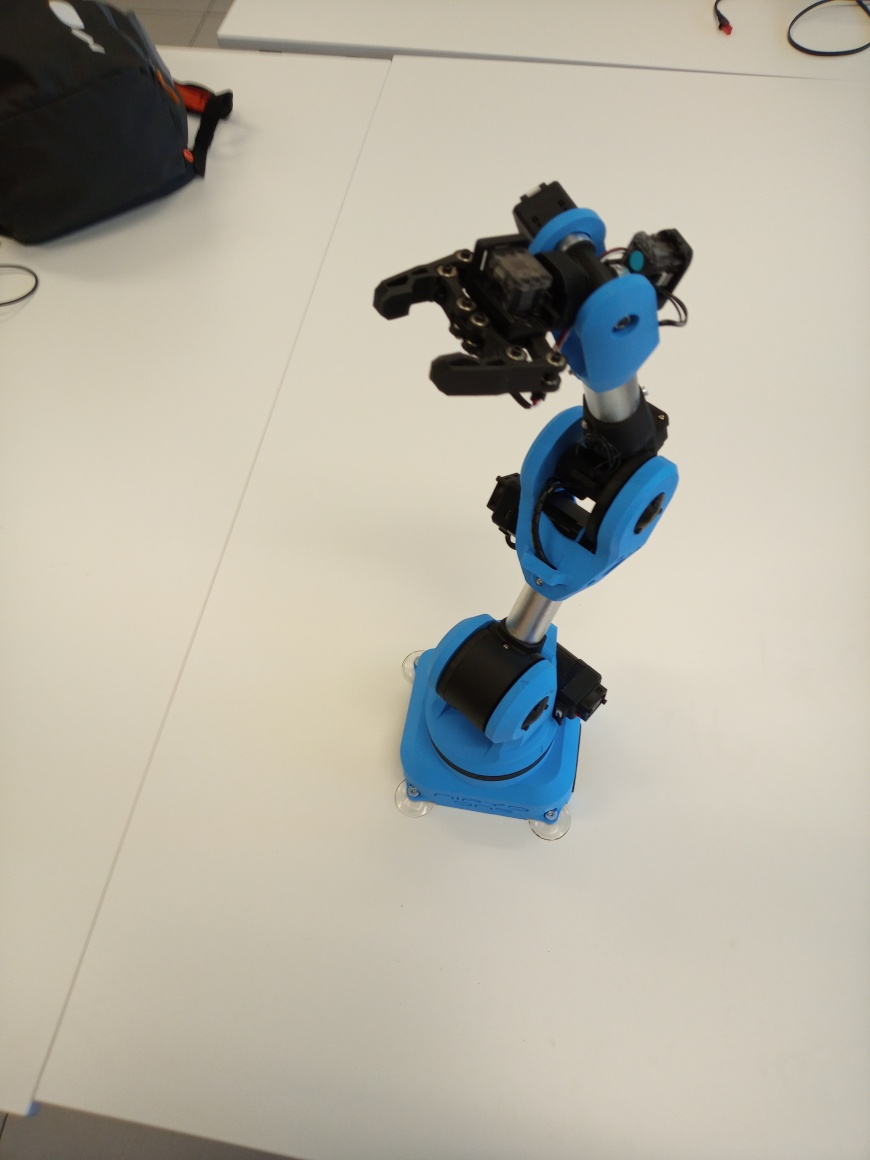robot: (373, 178, 698, 843)
